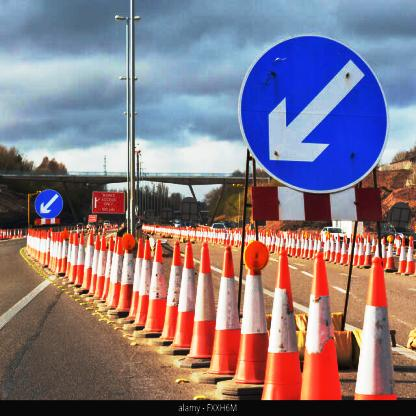Keep left: (239, 34, 389, 194), (31, 180, 65, 220)
